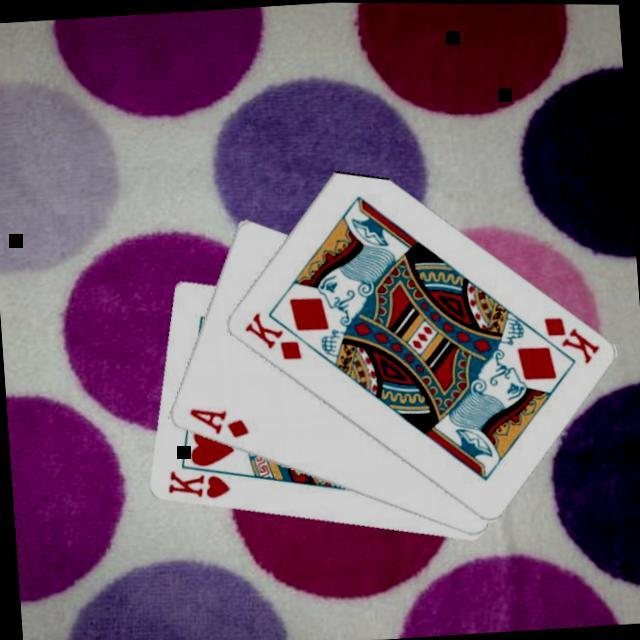AD: (182, 398, 250, 442)
KD: (236, 304, 302, 364), (536, 307, 601, 367)
KH: (160, 462, 230, 502)
